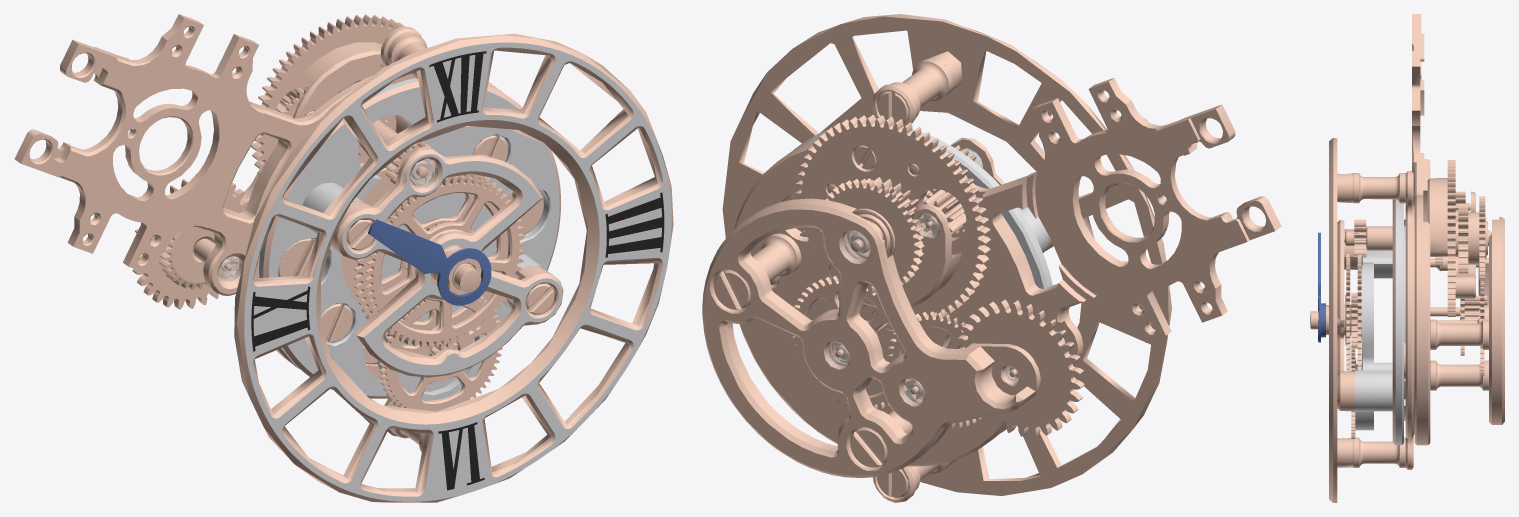
The model's file is case_body_rose_gold.glb.
The picture shows the model from 3 angles, left to right: view 1: azimuth 30°, elevation 25°; view 2: azimuth 150°, elevation 25°; view 3: azimuth 270°, elevation 25°; orthographic projection. The views are drawn at different scales.
Visible parts, largest first — view 1: Importée1.067, 08041.EVEREST.F.stp.031, 08041.EVEREST.F.stp.025, 08041.EVEREST.F.stp.021, Importée1.068, 08041.EVEREST.F.stp.064, 08041.EVEREST.F.stp.075, Enlèv. mat.-Extru.2, 08041.EVEREST.F.stp.040, 08041.EVEREST.F.stp.024, 08041.EVEREST.F.stp.055, 08041.EVEREST.F.stp.061 (+4 smaller); view 2: 08041.EVEREST.F.stp.031, 08041.EVEREST.F.stp.052, Importée1.067, 08041.EVEREST.F.stp.064, 08041.EVEREST.F.stp.061, 08041.EVEREST.F.stp.048, 08041.EVEREST.F.stp.047, 08041.EVEREST.F.stp.025, 08041.EVEREST.F.stp.051, 08041.EVEREST.F.stp.015, 08041.EVEREST.F.stp.030, 08041.EVEREST.F.stp.065 (+8 smaller); view 3: 08041.EVEREST.F.stp.025, 08041.EVEREST.F.stp.031, Importée1.067, 08041.EVEREST.F.stp.052, 08041.EVEREST.F.stp.029, 08041.EVEREST.F.stp.021, 08041.EVEREST.F.stp.040, 08041.EVEREST.F.stp.064, 08041.EVEREST.F.stp.065, 08041.EVEREST.F.stp.030, 08041.EVEREST.F.stp.058, 08041.EVEREST.F.stp.015 (+13 smaller).
Part boxes in pixels (x1,y1,x2,y2): Importée1.067: (234,33,673,502); 08041.EVEREST.F.stp.031: (14,14,505,368); 08041.EVEREST.F.stp.025: (259,78,560,401); 08041.EVEREST.F.stp.021: (330,146,563,377); Importée1.068: (365,176,525,347); 08041.EVEREST.F.stp.064: (251,14,427,174); 08041.EVEREST.F.stp.075: (379,296,502,411); Enlèv. mat.-Extru.2: (368,219,491,305); 08041.EVEREST.F.stp.040: (293,42,385,118); 08041.EVEREST.F.stp.024: (354,171,518,344); 08041.EVEREST.F.stp.055: (159,226,234,289); 08041.EVEREST.F.stp.061: (132,179,248,309); 08041.EVEREST.F.stp.031: (734,78,1281,466); 08041.EVEREST.F.stp.052: (702,198,1040,477); Importée1.067: (722,14,1171,495); 08041.EVEREST.F.stp.064: (794,115,990,317); 08041.EVEREST.F.stp.061: (956,299,1084,437); 08041.EVEREST.F.stp.048: (818,178,924,290); 08041.EVEREST.F.stp.047: (828,204,961,307); 08041.EVEREST.F.stp.025: (794,129,1056,432); 08041.EVEREST.F.stp.051: (789,275,910,409); 08041.EVEREST.F.stp.015: (890,58,952,117); 08041.EVEREST.F.stp.030: (752,233,801,281); 08041.EVEREST.F.stp.065: (844,177,930,259); 08041.EVEREST.F.stp.025: (1355,199,1405,445); 08041.EVEREST.F.stp.031: (1412,14,1430,445); Importée1.067: (1329,138,1353,502); 08041.EVEREST.F.stp.052: (1478,216,1504,424); 08041.EVEREST.F.stp.029: (1405,171,1413,469); 08041.EVEREST.F.stp.021: (1337,220,1355,411); 08041.EVEREST.F.stp.040: (1427,178,1447,256); 08041.EVEREST.F.stp.064: (1447,160,1458,316); 08041.EVEREST.F.stp.065: (1458,203,1487,273); 08041.EVEREST.F.stp.030: (1430,319,1488,349); 08041.EVEREST.F.stp.058: (1430,360,1488,390); 08041.EVEREST.F.stp.015: (1353,173,1405,203).
Size of the model in its own units: 0.0249 by 0.0196 by 0.00968.
